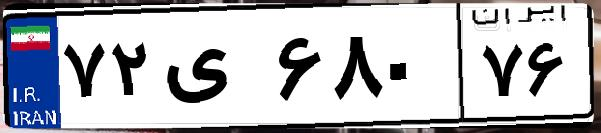0: (385, 28, 445, 110)
2: (110, 28, 158, 98)
6: (270, 28, 330, 110), (525, 38, 570, 115)
7: (57, 26, 110, 100), (475, 38, 525, 113)
8: (330, 28, 385, 110)
ی: (158, 20, 270, 120)
